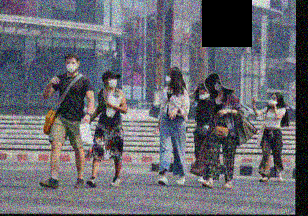with_mask: (65, 60, 79, 73), (107, 75, 119, 88), (214, 78, 225, 91), (198, 91, 209, 100), (165, 71, 172, 84), (270, 95, 278, 106)
